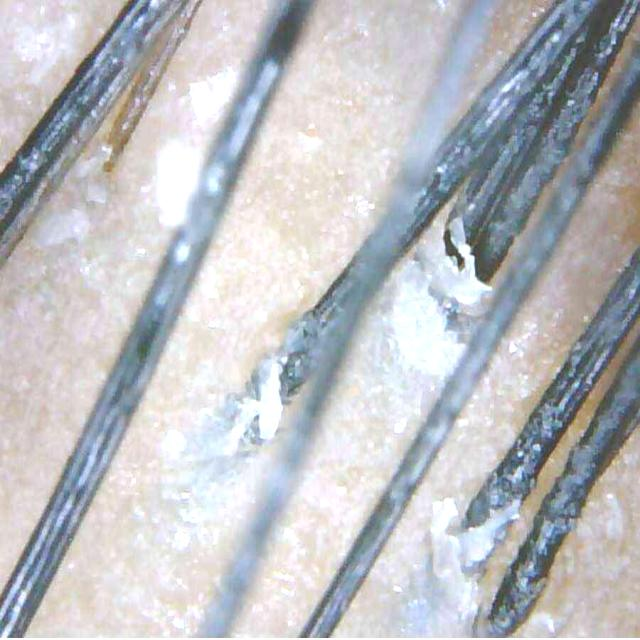d: (391, 261, 462, 376), (429, 220, 492, 318), (431, 498, 472, 619), (459, 500, 521, 569), (232, 357, 282, 440), (156, 142, 200, 226), (189, 66, 236, 120)
ds: (42, 156, 115, 221), (35, 208, 89, 248)
